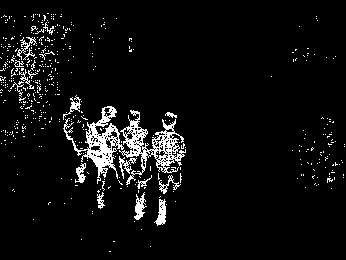person: (158, 109, 187, 224), (124, 111, 153, 220), (97, 96, 120, 212), (63, 91, 89, 183)
